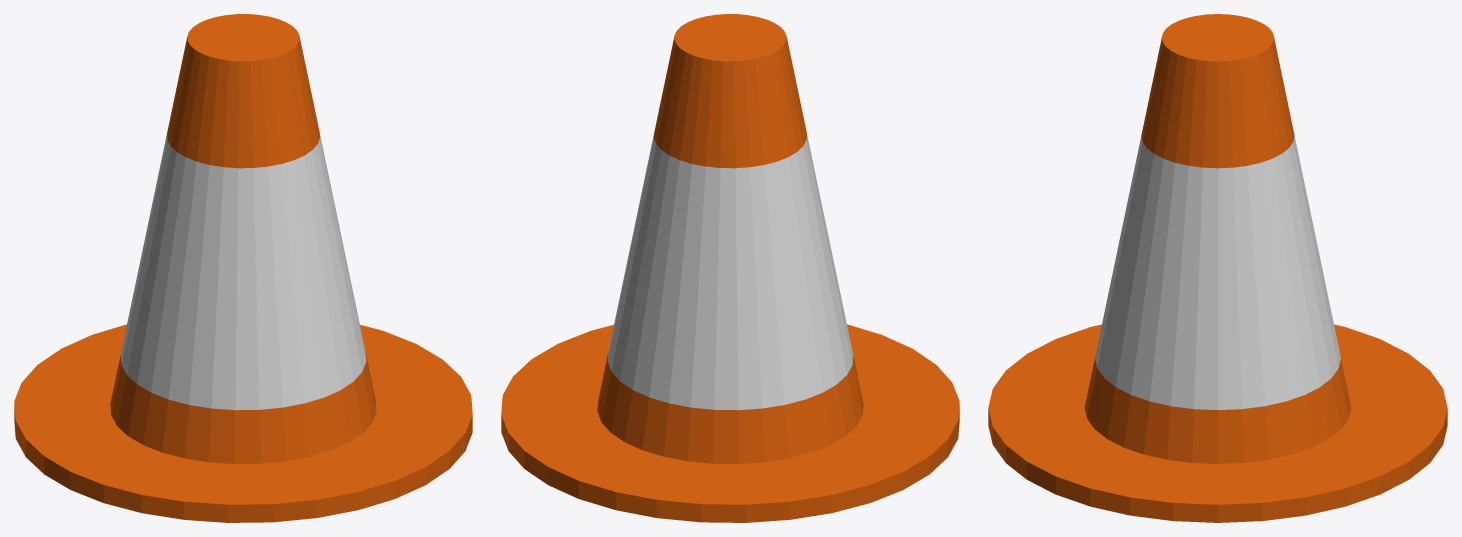
3 renders of one model, left to right at view 1: azimuth 30°, elevation 25°; view 2: azimuth 150°, elevation 25°; view 3: azimuth 270°, elevation 25°, orthographic.
Visible parts, largest first — view 1: Cylinder_007; view 2: Cylinder_007; view 3: Cylinder_007.
Boxes of the visible parts, <box> form: Cylinder_007: <box>14,14,472,522</box>; Cylinder_007: <box>501,14,959,522</box>; Cylinder_007: <box>988,14,1447,522</box>.
Size of the model in its own units: 0.32 by 0.32 by 0.2984.
